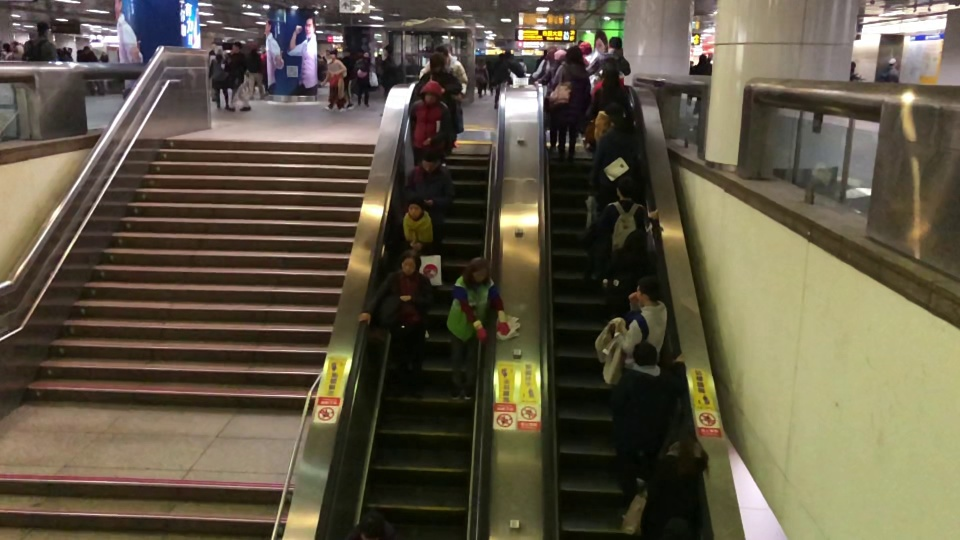person_head: (664, 412, 695, 445), (630, 340, 658, 368), (620, 229, 649, 255), (636, 274, 661, 303), (359, 513, 384, 540), (399, 248, 422, 273), (467, 256, 490, 281), (418, 80, 441, 104), (612, 175, 635, 198), (406, 193, 425, 218), (420, 147, 438, 171), (602, 65, 620, 86), (598, 55, 619, 72), (612, 114, 633, 131), (565, 44, 583, 63), (429, 52, 445, 73), (433, 44, 450, 63), (608, 36, 623, 52), (35, 20, 49, 35), (579, 41, 592, 56), (554, 48, 567, 62), (231, 41, 243, 53), (440, 41, 453, 52), (214, 45, 223, 59), (383, 44, 393, 56), (547, 46, 556, 58), (698, 53, 707, 64), (888, 57, 897, 68), (329, 48, 337, 59), (250, 42, 258, 52), (362, 52, 371, 60), (850, 61, 856, 72), (498, 53, 505, 62), (83, 45, 90, 53), (477, 56, 484, 64), (3, 42, 10, 50)
person_vbox: (611, 341, 686, 519), (358, 247, 432, 401), (445, 256, 510, 403), (639, 411, 709, 540), (397, 192, 444, 339), (410, 52, 462, 167), (613, 273, 669, 377), (602, 229, 658, 321), (597, 175, 659, 256), (551, 44, 591, 163), (590, 114, 644, 202), (407, 78, 454, 164), (406, 145, 457, 214), (535, 48, 568, 154), (418, 44, 470, 96), (376, 44, 406, 117), (592, 65, 634, 117), (585, 35, 632, 77), (225, 41, 252, 112), (321, 49, 347, 112), (22, 19, 58, 62), (208, 46, 232, 110), (588, 55, 625, 93), (692, 53, 712, 116), (352, 52, 373, 107), (246, 42, 265, 100), (531, 45, 557, 78), (491, 52, 505, 109), (474, 55, 490, 100), (878, 57, 899, 81), (81, 45, 97, 62), (849, 61, 863, 80), (1, 42, 13, 60)
